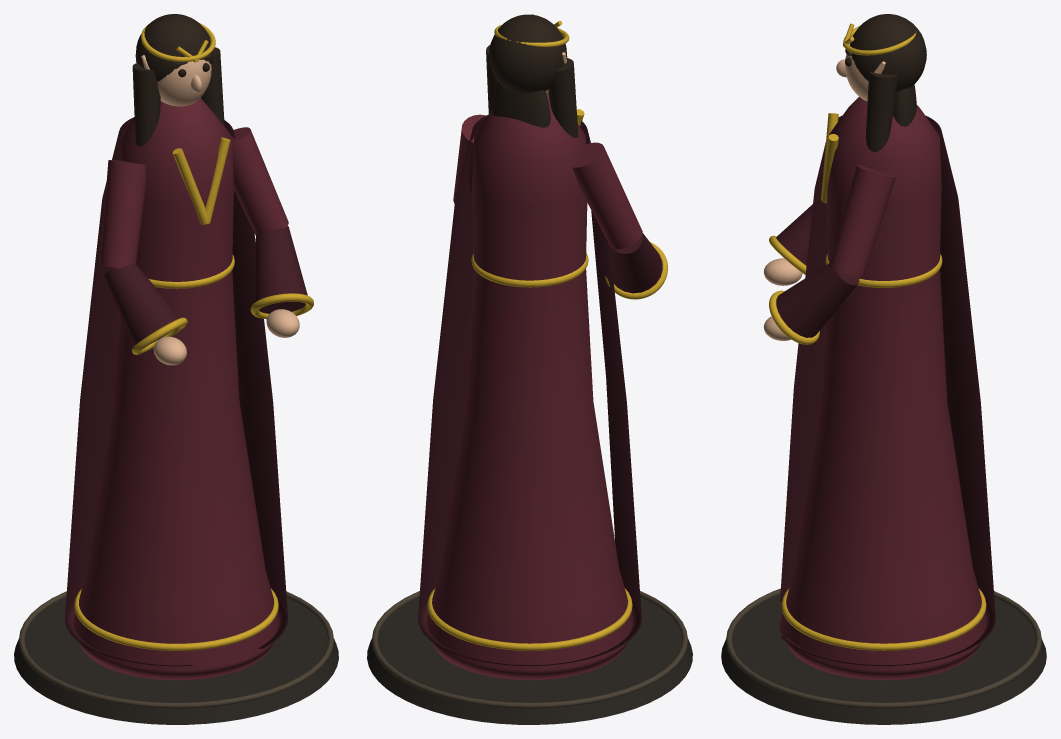
The model's file is elrond.glb.
The picture shows the model from 3 angles, left to right: view 1: azimuth 30°, elevation 25°; view 2: azimuth 150°, elevation 25°; view 3: azimuth 270°, elevation 25°; orthographic projection.
Visible parts, largest first — view 1: robe, mantle, base, arm_upper_l, arm_upper_r, sleeve_l, sleeve_r, base_ring, hair_cap, hem_band, hair_fall_l, skull (+9 smaller); view 2: robe, mantle, base, hair_cap, arm_upper_l, base_ring, sleeve_l, hem_band, hair_back, hair_fall_l, belt, arm_upper_r (+1 smaller); view 3: robe, mantle, base, arm_upper_r, hair_cap, sleeve_r, base_ring, hair_fall_r, hem_band, sleeve_l, hand_l, hair_back (+4 smaller).
Boxes of the visible parts, <box> form: robe: <box>73,98,279,680</box>; mantle: <box>65,117,287,666</box>; base: <box>14,597,338,724</box>; arm_upper_l: <box>100,160,146,268</box>; arm_upper_r: <box>231,127,288,235</box>; sleeve_l: <box>103,263,179,345</box>; sleeve_r: <box>255,226,307,313</box>; base_ring: <box>18,591,334,708</box>; hair_cap: <box>135,14,213,81</box>; hem_band: <box>74,588,278,650</box>; hair_fall_l: <box>132,63,160,146</box>; skull: <box>157,59,211,106</box>; robe: <box>426,96,633,680</box>; mantle: <box>418,115,641,666</box>; base: <box>367,597,692,724</box>; hair_cap: <box>489,14,567,93</box>; arm_upper_l: <box>572,142,642,249</box>; base_ring: <box>372,591,687,708</box>; sleeve_l: <box>609,233,662,293</box>; hem_band: <box>427,588,632,650</box>; hair_back: <box>492,81,550,127</box>; hair_fall_l: <box>548,58,578,137</box>; belt: <box>471,253,588,287</box>; arm_upper_r: <box>453,114,486,203</box>; robe: <box>779,96,987,680</box>; mantle: <box>780,115,995,666</box>; base: <box>721,594,1046,724</box>; arm_upper_r: <box>830,165,895,276</box>; hair_cap: <box>850,14,926,92</box>; sleeve_r: <box>776,262,859,337</box>; base_ring: <box>726,588,1041,708</box>; hair_fall_r: <box>865,71,898,152</box>; hem_band: <box>781,588,986,650</box>; sleeve_l: <box>776,204,827,265</box>; hand_l: <box>763,258,802,285</box>; hair_back: <box>893,84,916,126</box>.
Size of the model in its own units: 0.8736 by 1.89 by 0.8736.
